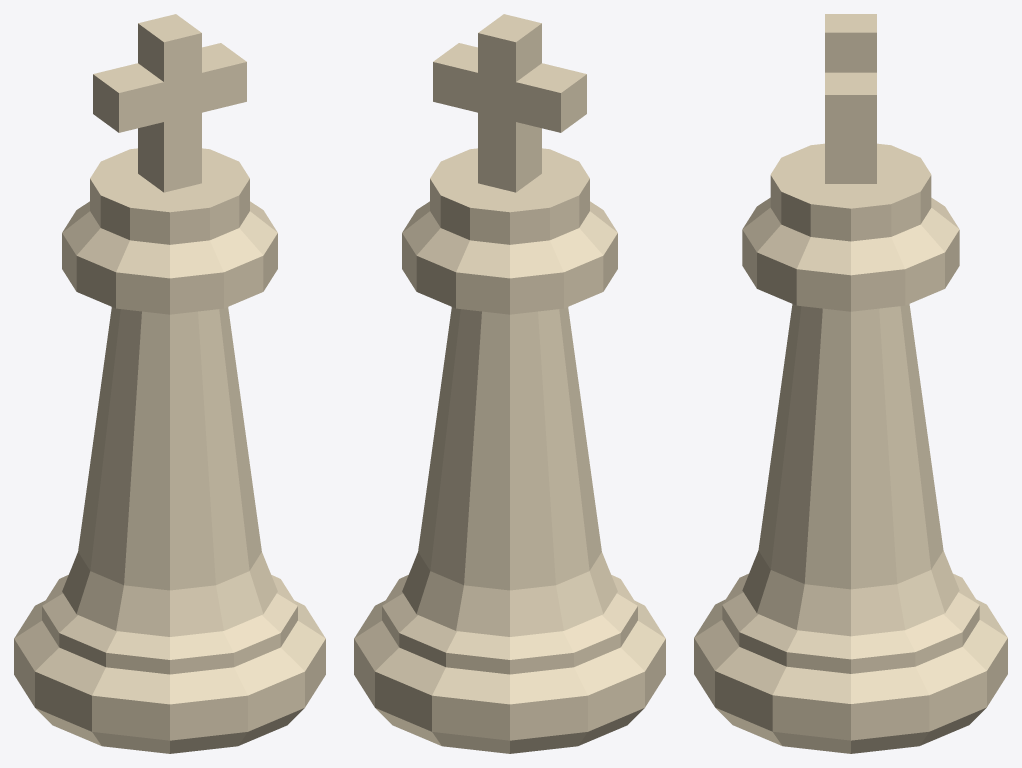
Rendered from king.glb.
3 renders of one model, left to right at view 1: azimuth 30°, elevation 25°; view 2: azimuth 150°, elevation 25°; view 3: azimuth 270°, elevation 25°, orthographic.
Parts seen in each view (by area): view 1: king; view 2: king; view 3: king.
Boxes of the visible parts, x1,y1,x2,y2 form: king: (14,14,325,753); king: (354,14,665,753); king: (694,14,1007,753).
Size of the model in its own units: 0.78 by 1.85 by 0.78.
